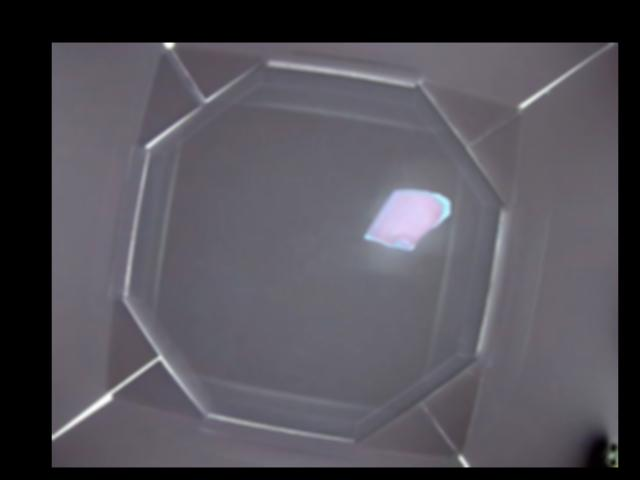China: (363, 187, 453, 249)
